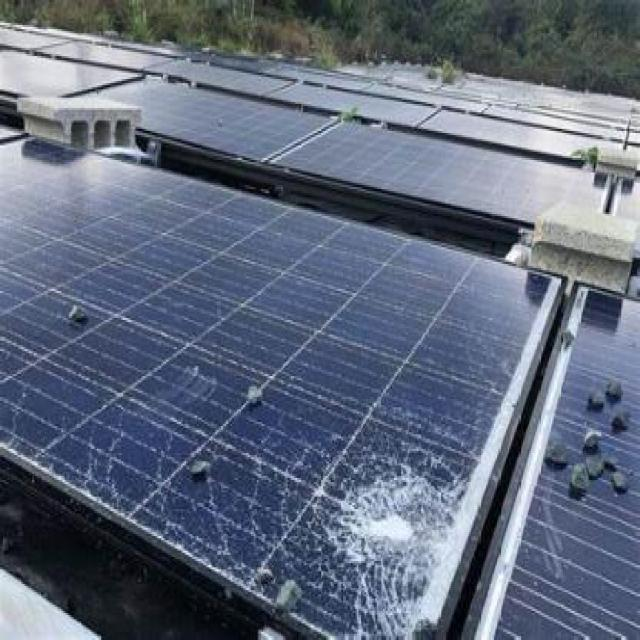cracked: (1, 137, 526, 640)
